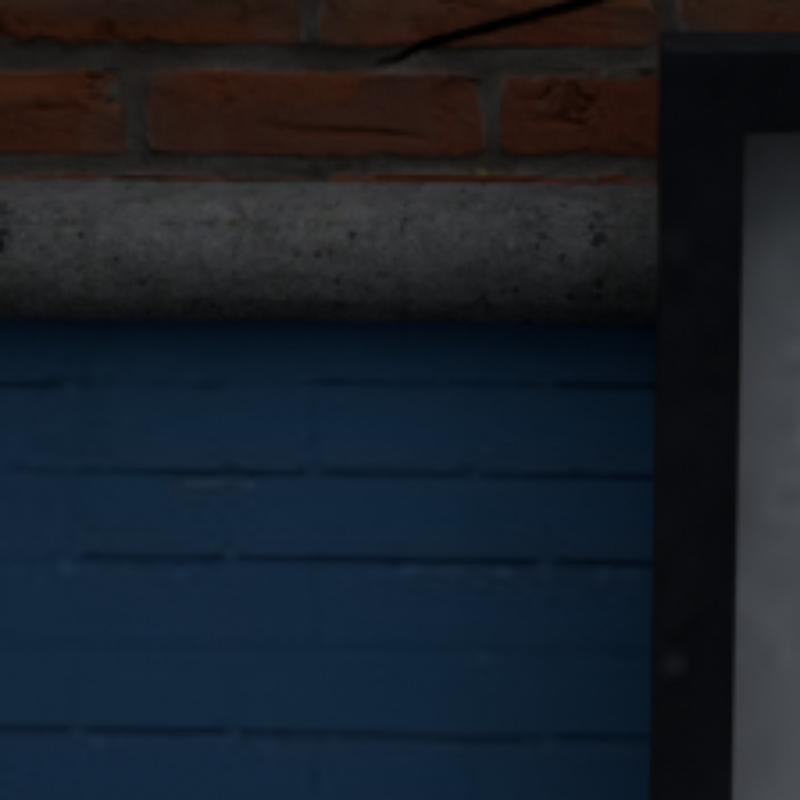pothole: (375, 0, 604, 61)
